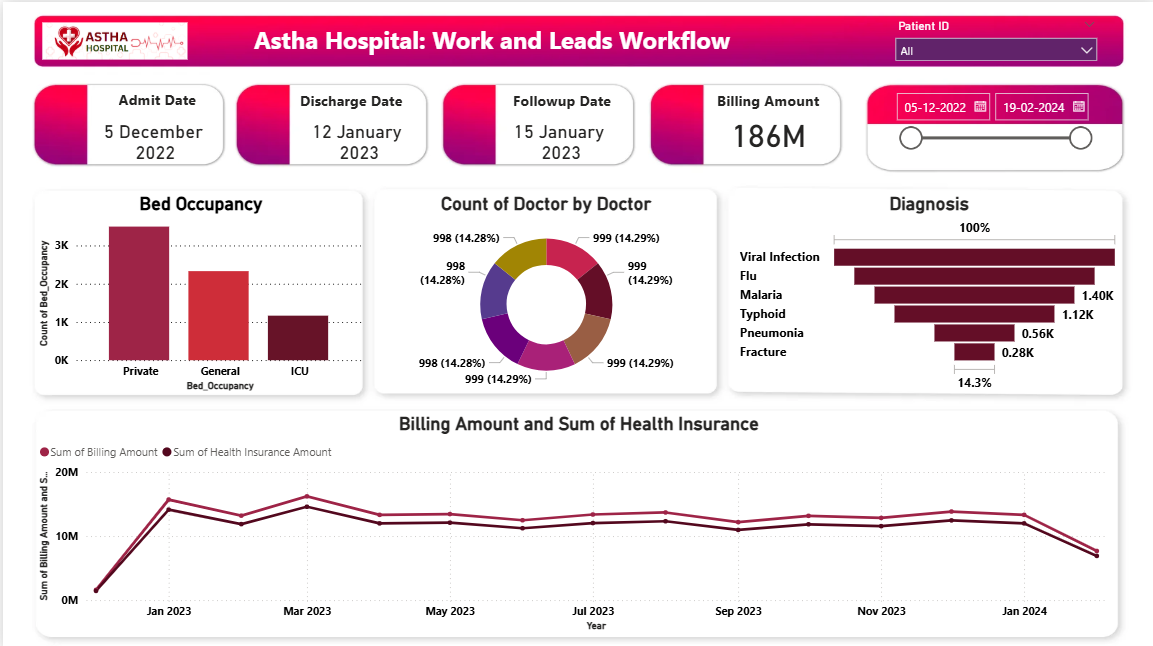

This screenshot's page, from the dashboard's own definition file:
{"tool":"powerbi","page":{"name":"Page 1","canvas":[1280,720],"ordinal":0},"visuals":[{"type":"image","box":[38.6,17.1,171.4,52.9],"z":0},{"type":"textbox","box":[248,18,590,52],"z":1000},{"type":"slicer","fields":{"Values":["Sheet1.Patient_ID"]},"box":[982,14,244,52],"z":2000},{"type":"card","fields":{"Values":["Min(Sheet1.Admit_Date)"]},"box":[100,120,138,70],"z":3000},{"type":"textbox","box":[124,92,114,46],"z":3001},{"type":"card","fields":{"Values":["Min(Sheet1.Discharge_Date)"]},"box":[326,120,138,70],"z":3002},{"type":"textbox","box":[325.7,92.9,138.6,45],"z":3003},{"type":"textbox","box":[562.3,93.1,140,45.4],"z":3004},{"type":"card","fields":{"Values":["Min(Sheet1.Followup Date)"]},"box":[551.7,120,136.7,70],"z":3005},{"type":"textbox","box":[788.3,93.3,193.3,45],"z":3006},{"type":"card","fields":{"Values":["Sum(Sheet1.Billing Amount)"]},"box":[781.7,110,136.7,70],"z":3007},{"type":"slicer","fields":{"Values":["Sheet1.Admit_Date"]},"box":[980,90,245,90],"z":3008},{"type":"columnChart","title":"Bed Occupancy","fields":{"Category":["Sheet1.Bed_Occupancy"],"Y":["CountNonNull(Sheet1.Bed_Occupancy)"]},"box":[35,211.7,370,225],"z":3009},{"type":"donutChart","fields":{"Y":["CountNonNull(Sheet1.Doctor)"],"Category":["Sheet1.Doctor"]},"box":[418.3,211.7,370,225],"z":3010},{"type":"funnel","title":" Diagnosis","fields":{"Category":["Sheet1.Diagnosis"],"Y":["CountNonNull(Sheet1.Diagnosis)"]},"box":[813.3,211.7,431.7,225],"z":3011},{"type":"lineChart","title":" Billing Amount and Sum of Health Insurance","fields":{"Y":["Sum(Sheet1.Billing Amount)","Sum(Sheet1.Health Insurance Amount)"],"Category":["Sheet1.Admit_Date.Variation.Date Hierarchy.Year","Sheet1.Admit_Date.Variation.Date Hierarchy.Quarter","Sheet1.Admit_Date.Variation.Date Hierarchy.Month"]},"box":[35,456.7,1210,246.7],"z":3012}]}

Visuals, with their boxes in screenshot pixels (x1, y1, x2, y2), scaled from the page's 1280x720 canvas onto the 1153x646 screenshot:
image: x1=35, y1=15, x2=189, y2=63
textbox: x1=223, y1=16, x2=755, y2=63
slicer - Sheet1.Patient_ID: x1=885, y1=13, x2=1104, y2=59
card - Min(Sheet1.Admit_Date): x1=90, y1=108, x2=214, y2=170
textbox: x1=112, y1=83, x2=214, y2=124
card - Min(Sheet1.Discharge_Date): x1=294, y1=108, x2=418, y2=170
textbox: x1=293, y1=83, x2=418, y2=124
textbox: x1=507, y1=84, x2=633, y2=124
card - Min(Sheet1.Followup Date): x1=497, y1=108, x2=620, y2=170
textbox: x1=710, y1=84, x2=884, y2=124
card - Sum(Sheet1.Billing Amount): x1=704, y1=99, x2=827, y2=162
slicer - Sheet1.Admit_Date: x1=883, y1=81, x2=1103, y2=162
"Bed Occupancy" columnChart: x1=32, y1=190, x2=365, y2=392
donutChart - CountNonNull(Sheet1.Doctor) x Sheet1.Doctor: x1=377, y1=190, x2=710, y2=392
" Diagnosis" funnel: x1=733, y1=190, x2=1121, y2=392
" Billing Amount and Sum of Health Insurance" lineChart: x1=32, y1=410, x2=1121, y2=631
